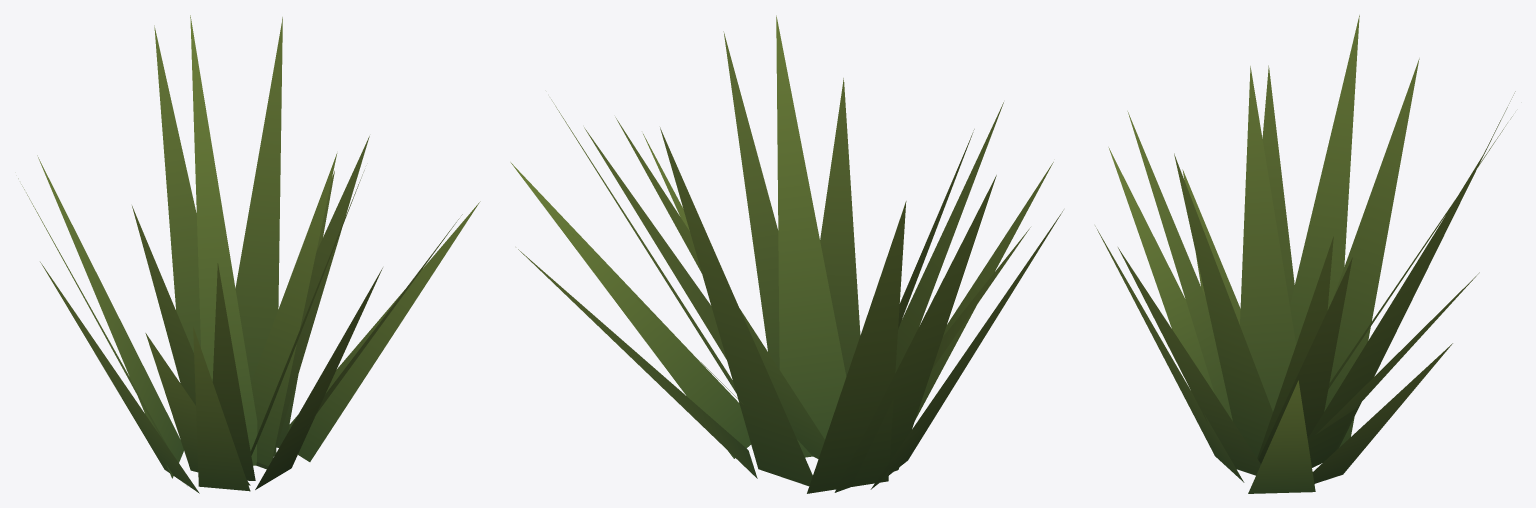
The model's file is SM_Trawa_1.glb.
The picture shows the model from 3 angles, left to right: view 1: azimuth 30°, elevation 25°; view 2: azimuth 150°, elevation 25°; view 3: azimuth 270°, elevation 25°; orthographic projection. The views are drawn at different scales.
Visible parts, largest first — view 1: SM_Trawa_1; view 2: SM_Trawa_1; view 3: SM_Trawa_1.
Part boxes in pixels (box(x1,y1,x2,y2)): SM_Trawa_1: box(18, 15, 480, 493); SM_Trawa_1: box(510, 15, 1063, 493); SM_Trawa_1: box(1095, 15, 1515, 493).
Bounding box in the file's own units: 1.13 × 0.8425 × 0.8289.
